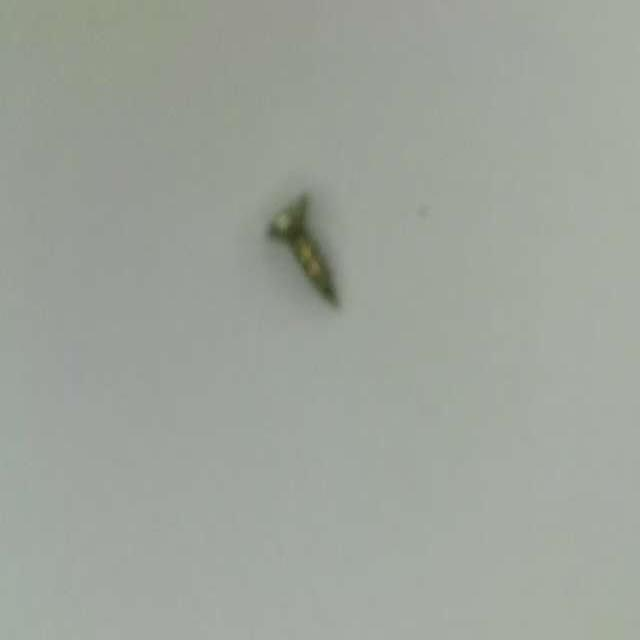Parafuso: (269, 196, 334, 301)
